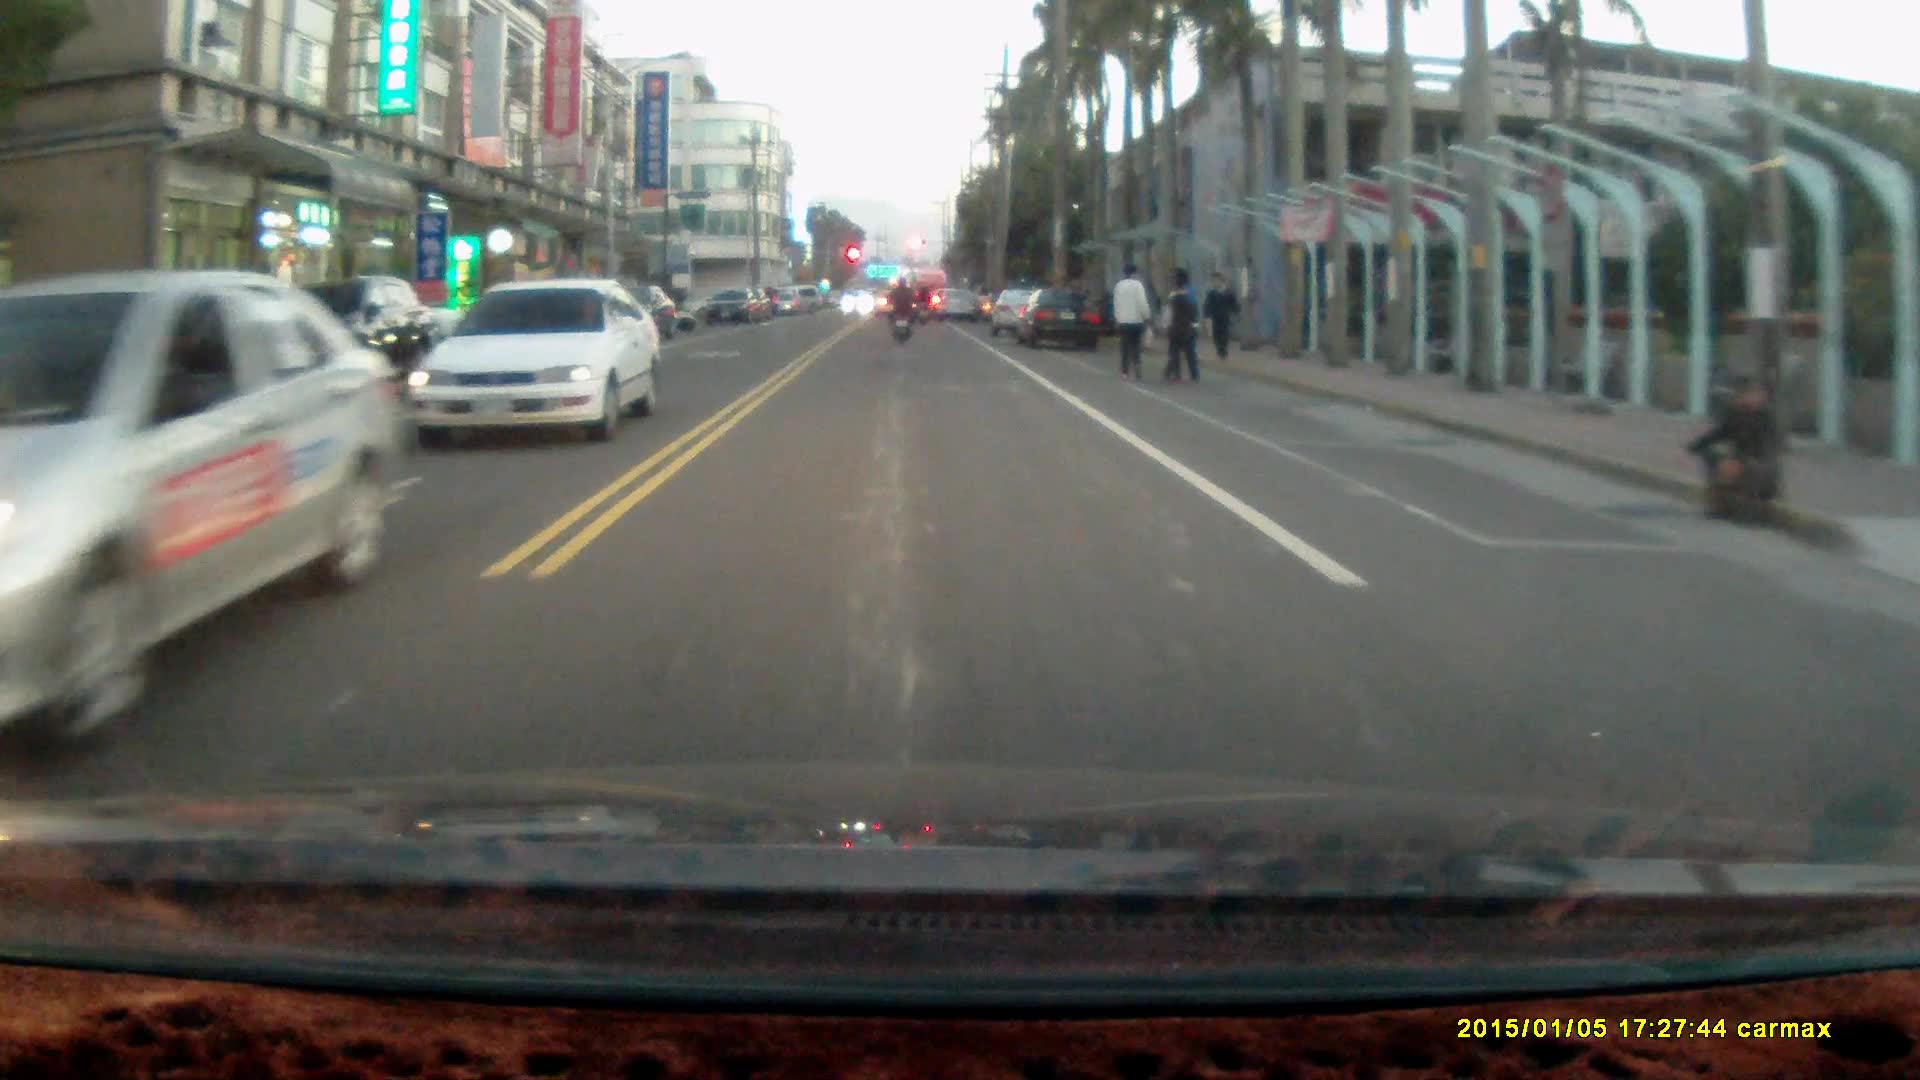pedestrian: (1682, 380, 1787, 527), (1110, 260, 1150, 383), (1161, 277, 1200, 389), (1205, 269, 1240, 363)
rider: (884, 274, 915, 346)
vehicle: (1, 266, 429, 716), (416, 278, 662, 437), (1014, 288, 1105, 349)
